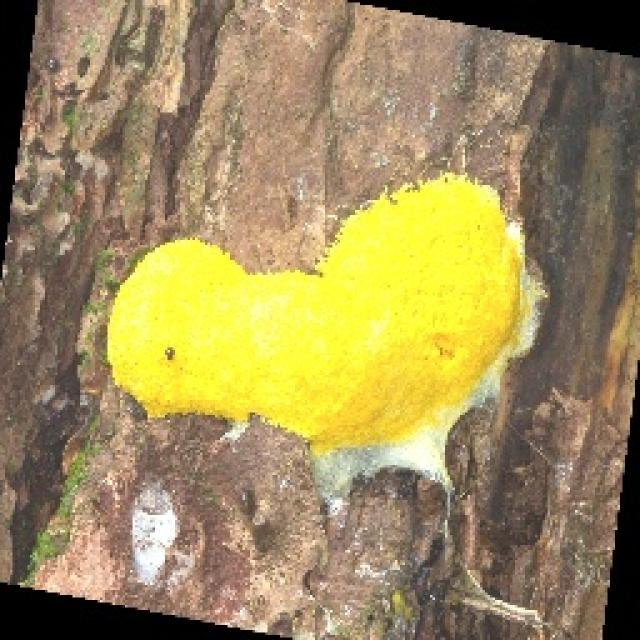Dog_vomit_slime_mold: (104, 166, 542, 485)
